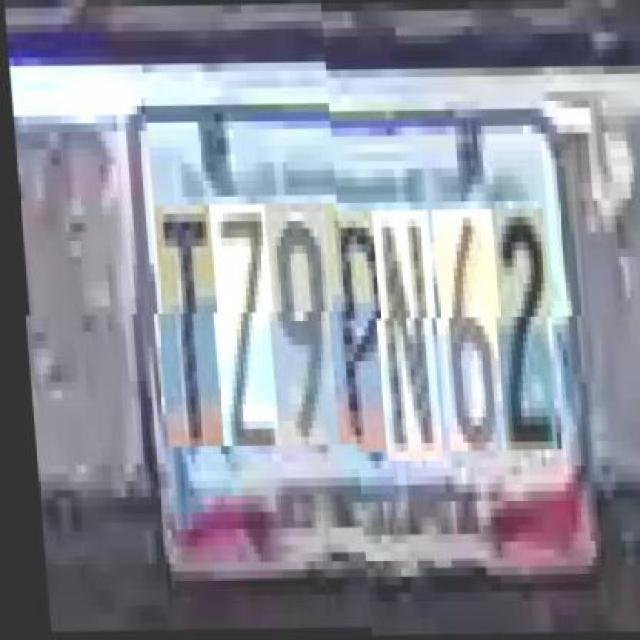2: (488, 210, 554, 452)
6: (427, 210, 502, 453)
9: (261, 213, 337, 455)
n: (368, 210, 439, 462)
p: (321, 212, 392, 453)
t: (150, 213, 222, 456)
z: (206, 213, 276, 455)
